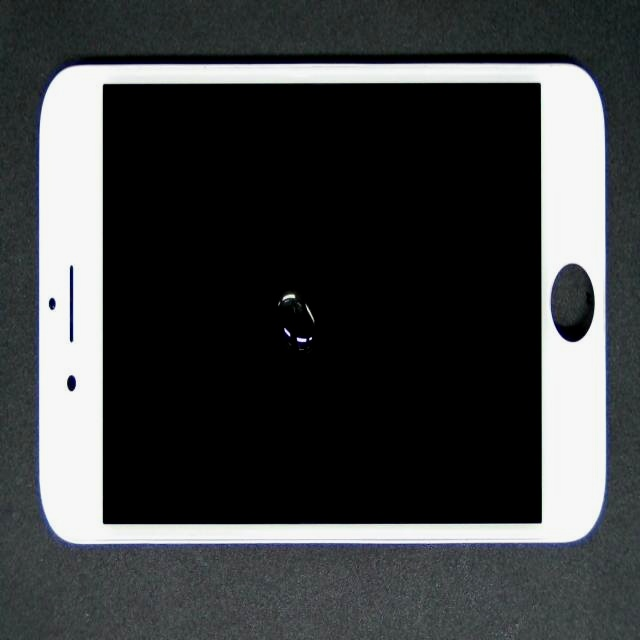oil: (173, 167, 460, 445)
